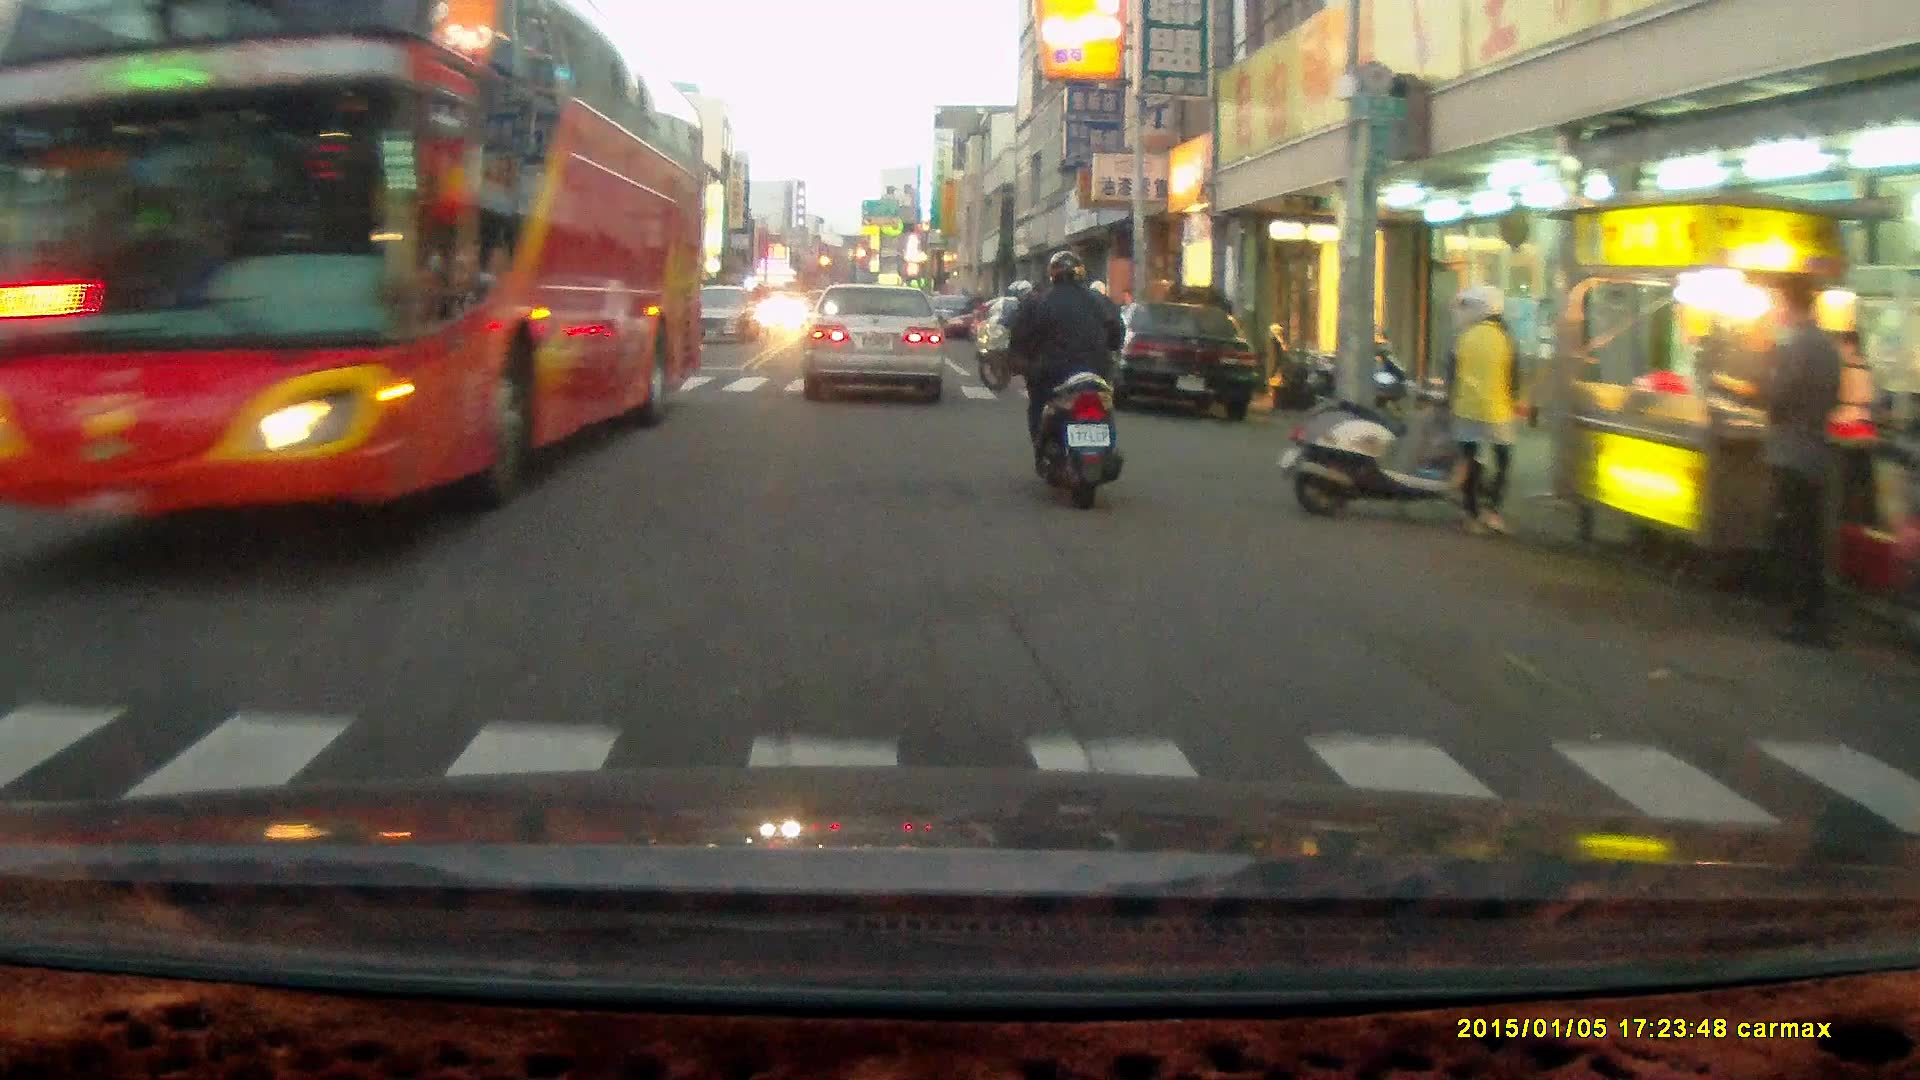pedestrian: (1720, 278, 1846, 651), (1438, 279, 1523, 540), (1822, 318, 1882, 502)
rider: (1000, 250, 1121, 512), (980, 275, 1051, 395)
vehicle: (1, 18, 710, 522), (1085, 300, 1269, 423), (802, 283, 947, 403), (699, 288, 756, 350)
